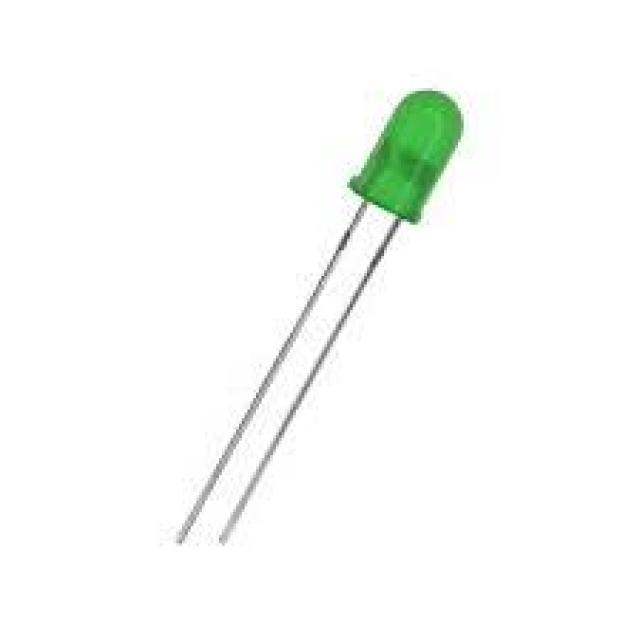Led: (181, 95, 462, 543)
